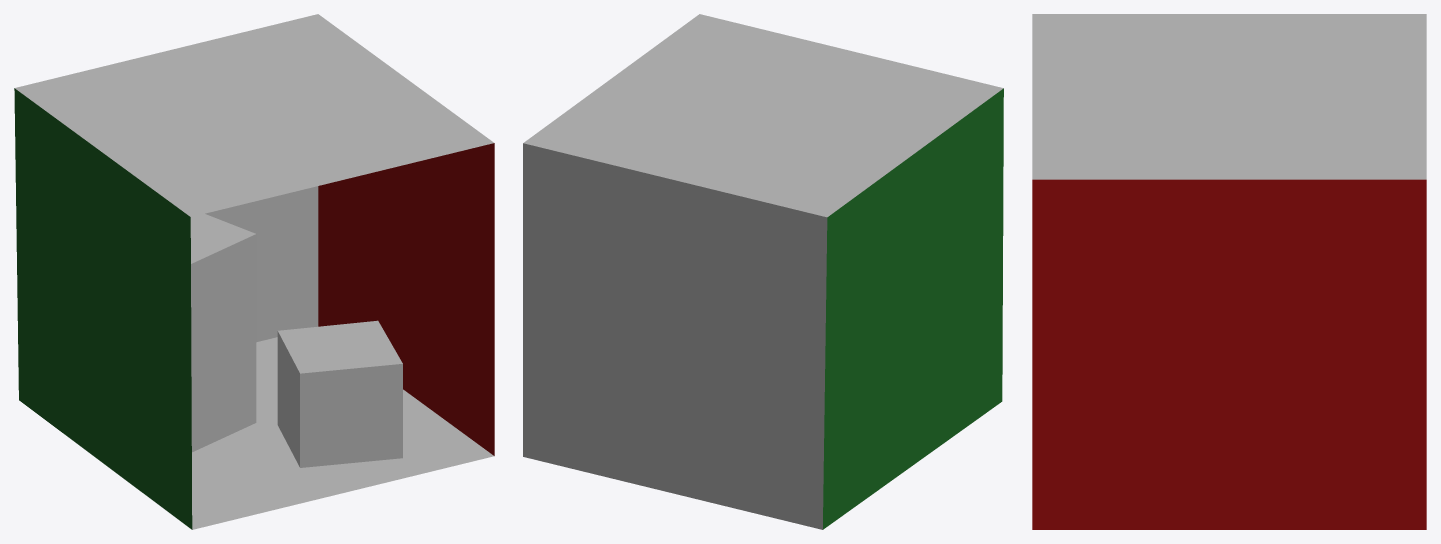
File: cornell.obj
3 views of the same model, side by side, from view 1: azimuth 30°, elevation 25°; view 2: azimuth 150°, elevation 25°; view 3: azimuth 270°, elevation 25° (orthographic). The views are drawn at different scales.
Parts seen in each view (by area): view 1: CornellBox-Original; view 2: CornellBox-Original; view 3: CornellBox-Original.
Part boxes in pixels (box(x1,y1,x2,y2)): CornellBox-Original: box(14, 14, 494, 529); CornellBox-Original: box(523, 14, 1003, 529); CornellBox-Original: box(1032, 14, 1426, 529).
Bounding box in the file's own units: 2.02 × 1.99 × 2.03.
